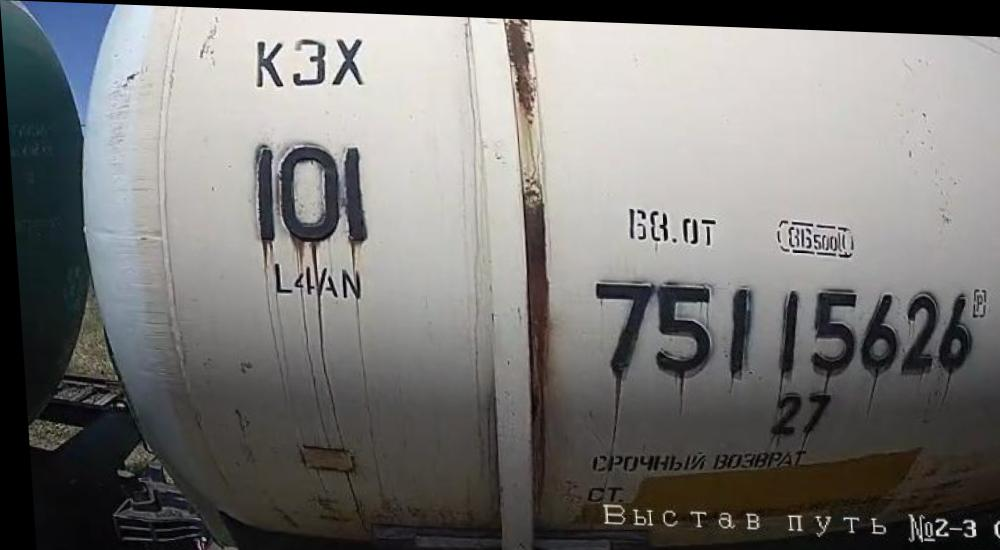Wagon-number: (579, 266, 974, 385)
